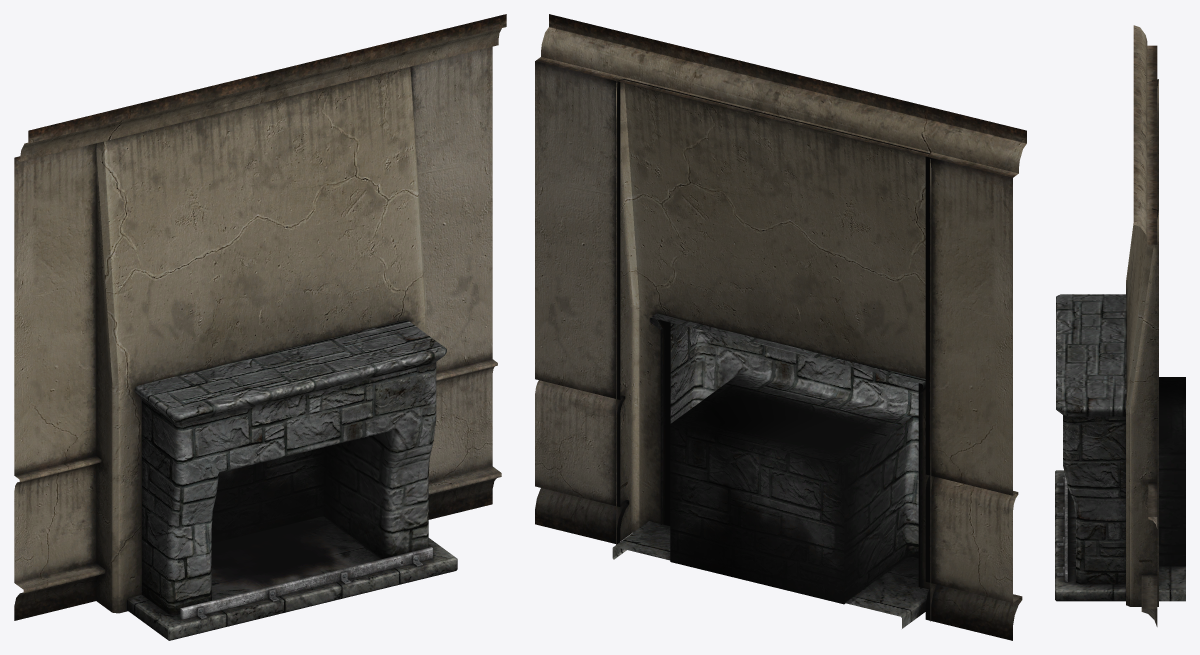
File: wall_stove.dae
The picture shows the model from 3 angles, left to right: view 1: azimuth 30°, elevation 25°; view 2: azimuth 150°, elevation 25°; view 3: azimuth 270°, elevation 25°; orthographic projection. The views are drawn at different scales.
Parts seen in each view (by area): view 1: mansionbase_wall_stove; view 2: mansionbase_wall_stove; view 3: mansionbase_wall_stove.
Part boxes in pixels (x1,y1,x2,y2): mansionbase_wall_stove: [14, 14, 506, 640]; mansionbase_wall_stove: [535, 14, 1026, 640]; mansionbase_wall_stove: [1055, 25, 1185, 626].
Size of the model in its own units: 4 by 4 by 1.11.
